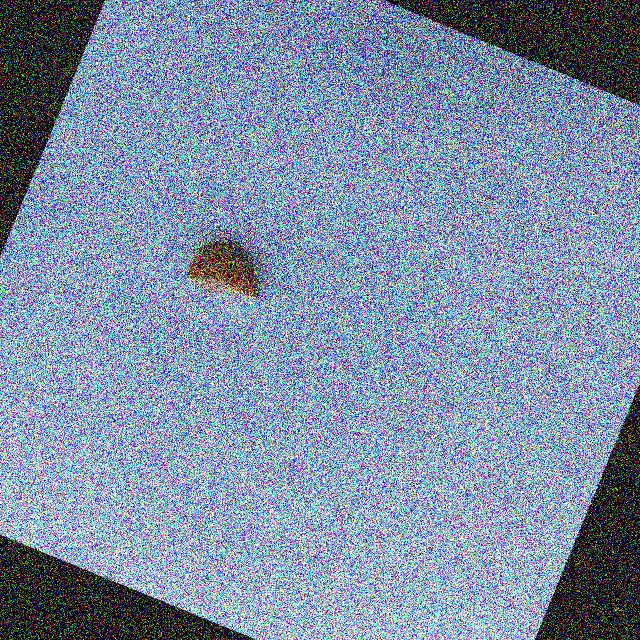grade4: (175, 225, 283, 318)
